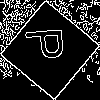P: (25, 25, 74, 62)
